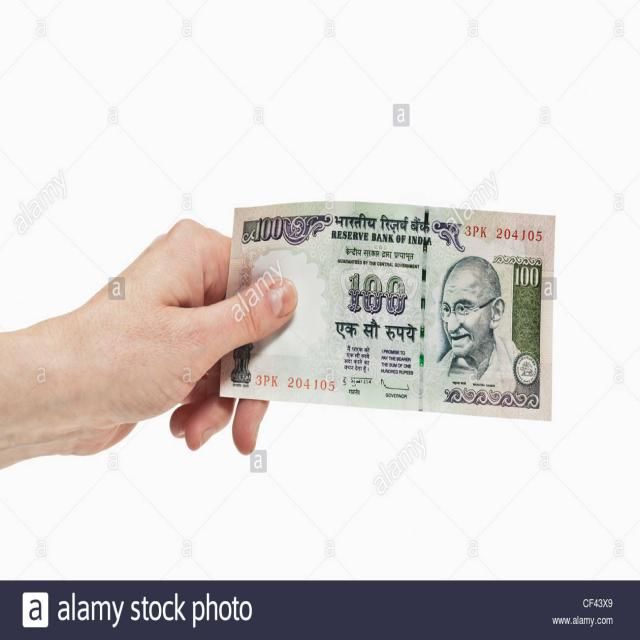100IndianRupees: (216, 203, 554, 422)
